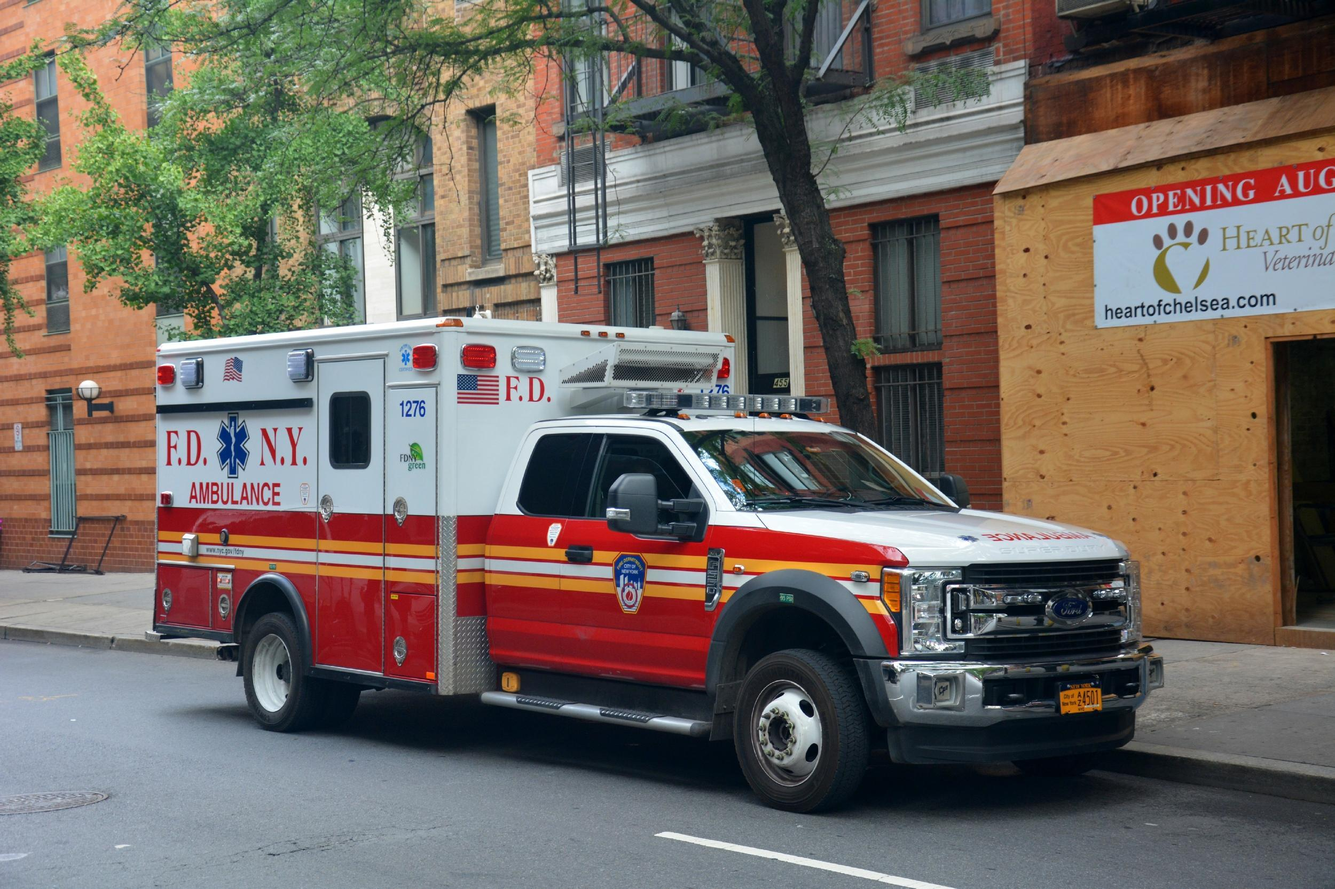Ambulance: (187, 477, 292, 510)
